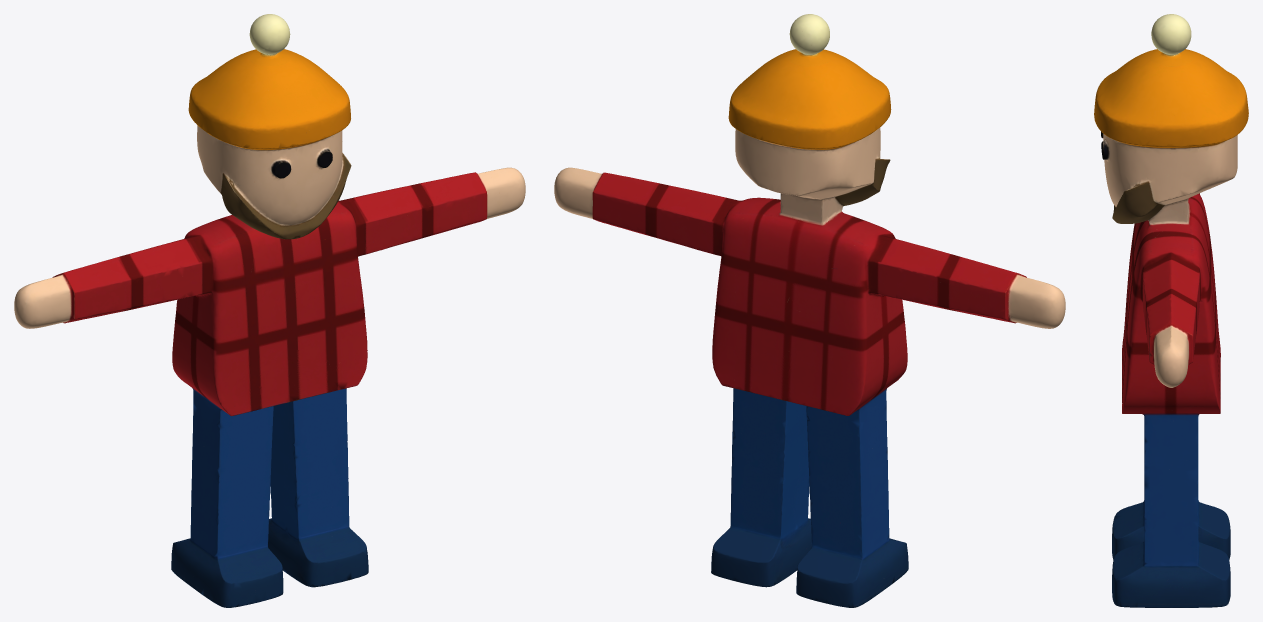
The model's file is Meshy_AI_Low_Poly_Lumberjack.fbx.
3 renders of one model, left to right at view 1: azimuth 30°, elevation 25°; view 2: azimuth 150°, elevation 25°; view 3: azimuth 270°, elevation 25°, orthographic.
Parts seen in each view (by area): view 1: Mesh_0; view 2: Mesh_0; view 3: Mesh_0.
Part boxes in pixels (bbox=[...]): Mesh_0: bbox=[14, 14, 525, 607]; Mesh_0: bbox=[554, 14, 1065, 607]; Mesh_0: bbox=[1094, 14, 1248, 607].
Bounding box in the file's own units: 182 × 190 × 47.95.
1 material, 1 textured.
